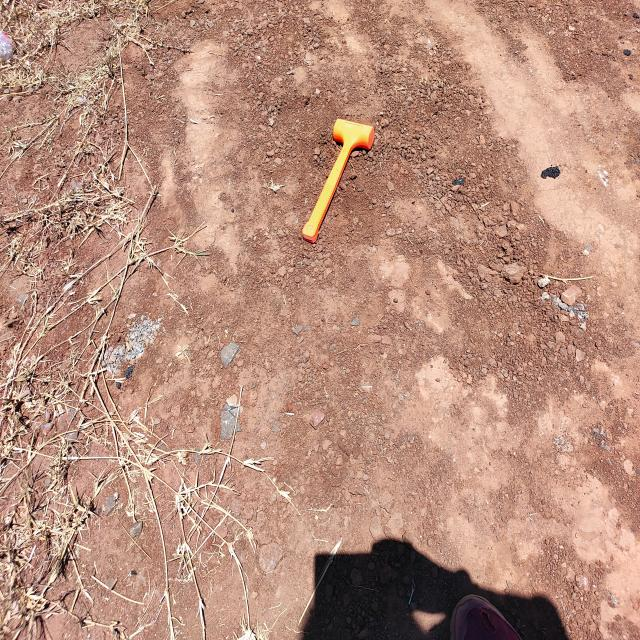Orange_hammer: (301, 117, 375, 244)
